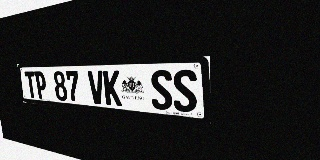7: (65, 71, 81, 102)
8: (53, 71, 68, 101)
K: (103, 70, 122, 106)
P: (34, 71, 48, 99)
S: (172, 69, 197, 113), (150, 70, 173, 111)
T: (24, 71, 37, 98)
V: (87, 71, 105, 105)
